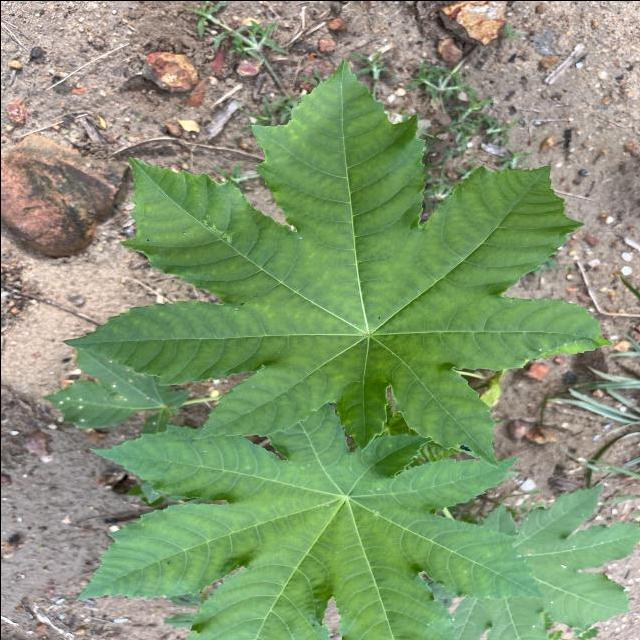Ricinus communis linn: (55, 54, 622, 474), (69, 392, 554, 640)
